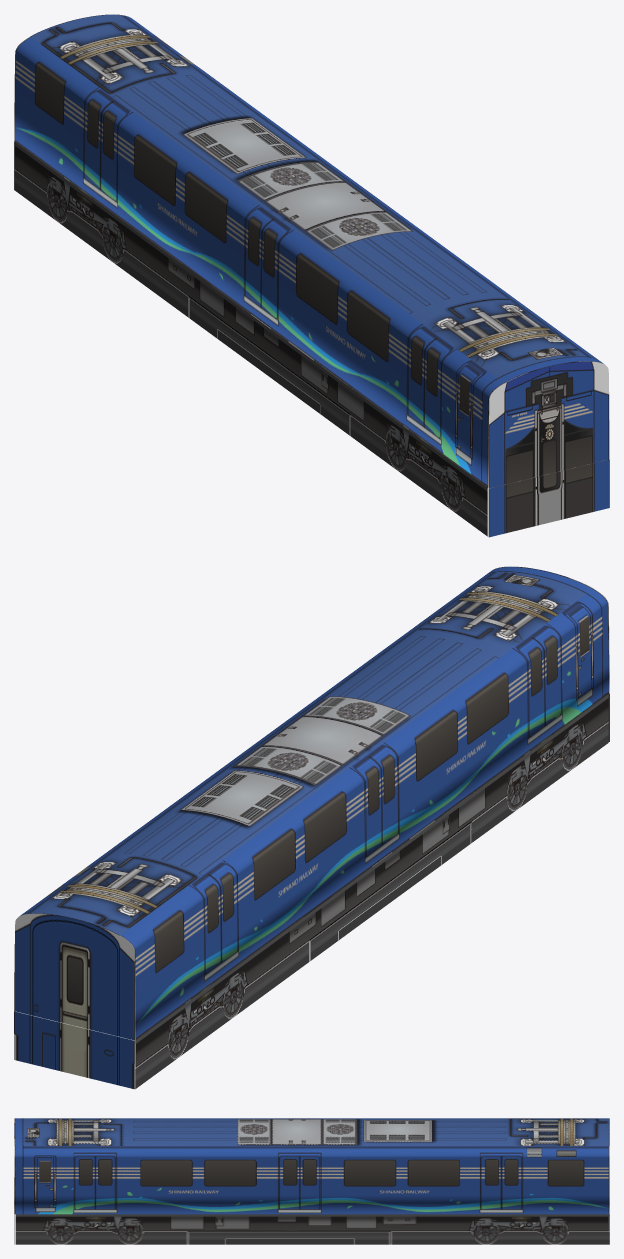
File: car1.glb
3 views of the same model, one above another, from view 1: azimuth 30°, elevation 25°; view 2: azimuth 150°, elevation 25°; view 3: azimuth 270°, elevation 25° (orthographic). The views are drawn at different scales.
Parts seen in each view (by area): view 1: sinano-sr1-car1; view 2: sinano-sr1-car1; view 3: sinano-sr1-car1.
Boxes of the visible parts, x1=… form: sinano-sr1-car1: x1=14, y1=14, x2=609, y2=537; sinano-sr1-car1: x1=14, y1=566, x2=609, y2=1089; sinano-sr1-car1: x1=14, y1=1118, x2=609, y2=1244.
Bounding box in the file's own units: 2.95 × 3.62 × 20.03.
9 materials, 8 textured.
